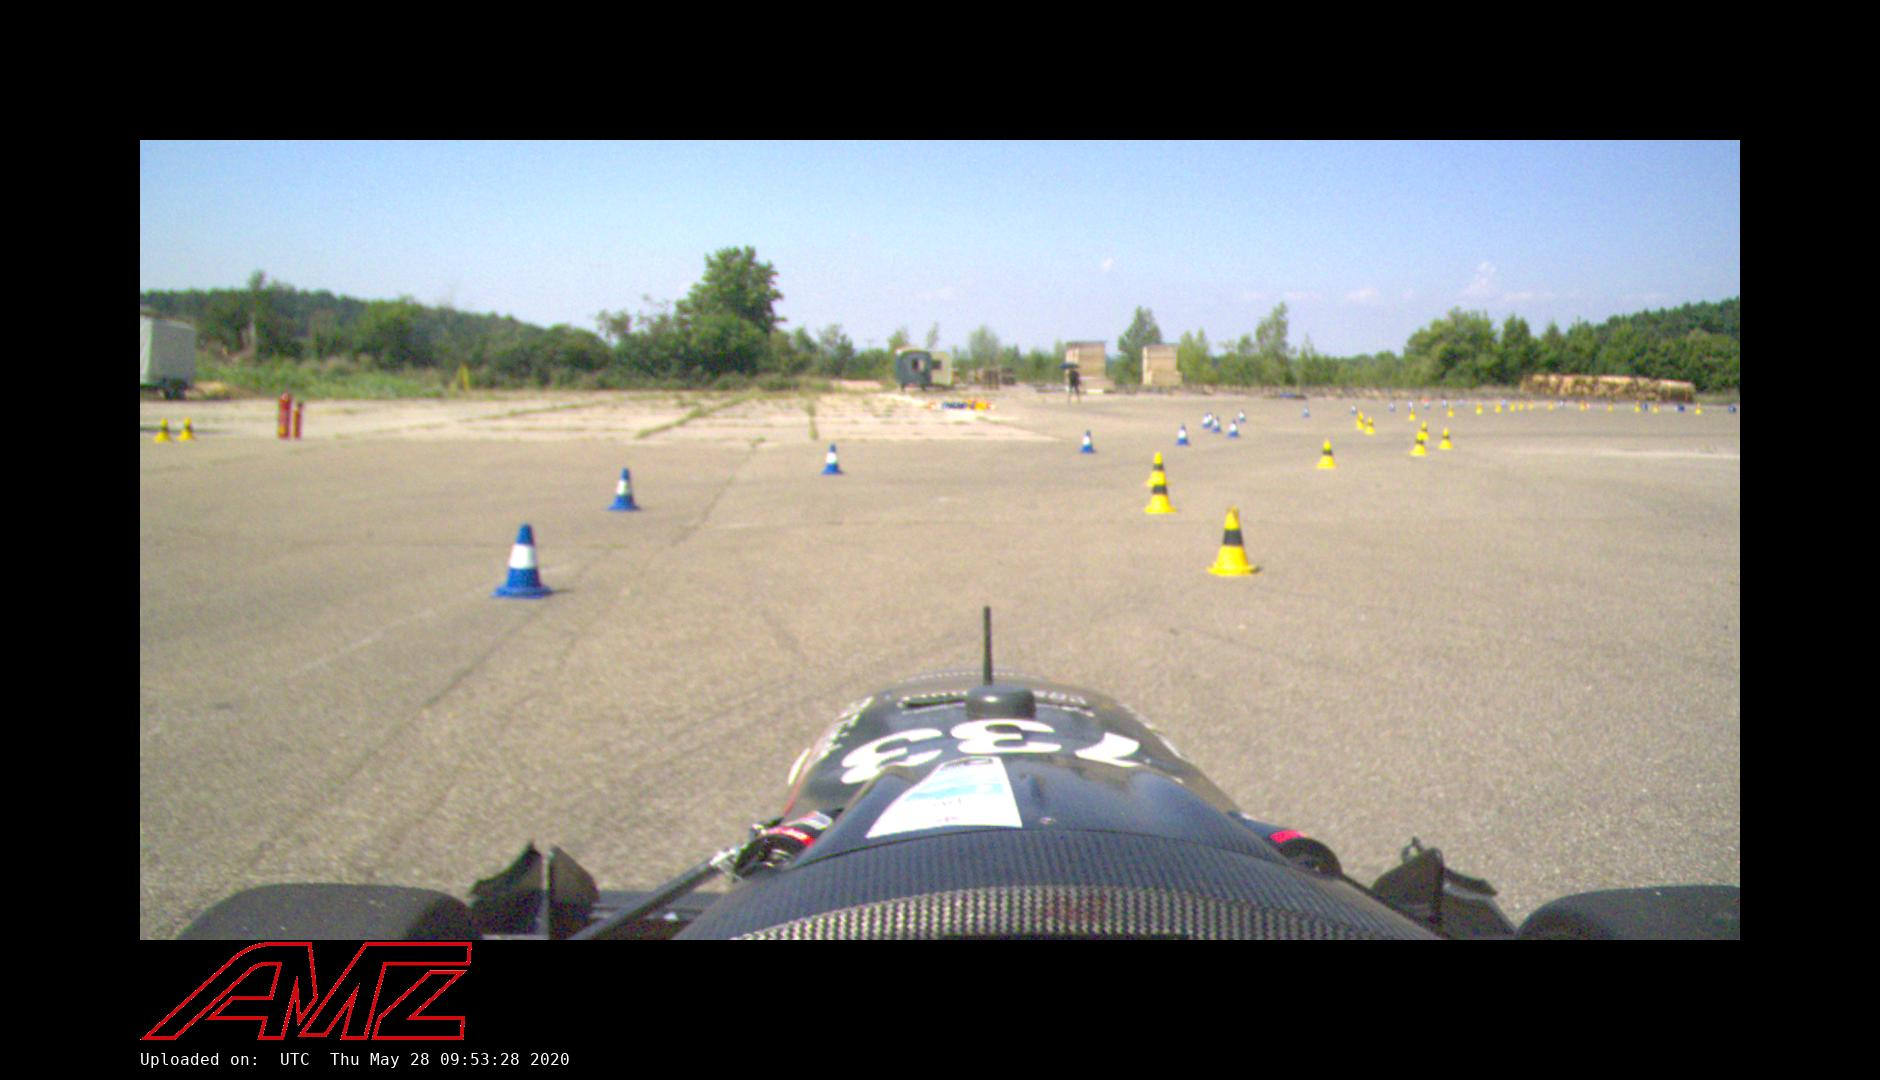blue_cone: (493, 524, 553, 599), (608, 466, 640, 512), (1079, 429, 1098, 453), (1176, 424, 1190, 446), (1227, 419, 1240, 435), (1211, 415, 1221, 431), (1203, 411, 1212, 428), (1237, 408, 1247, 422), (1302, 406, 1309, 419)
yellow_cone: (1203, 505, 1264, 577), (1147, 475, 1176, 514), (1147, 451, 1172, 486), (1318, 439, 1338, 468), (176, 416, 198, 441), (152, 419, 172, 442), (1438, 428, 1454, 450), (1411, 433, 1425, 456), (1365, 416, 1376, 434), (1419, 422, 1429, 441), (1354, 411, 1364, 429), (1446, 406, 1454, 419), (1409, 408, 1416, 420), (1476, 402, 1484, 413)
